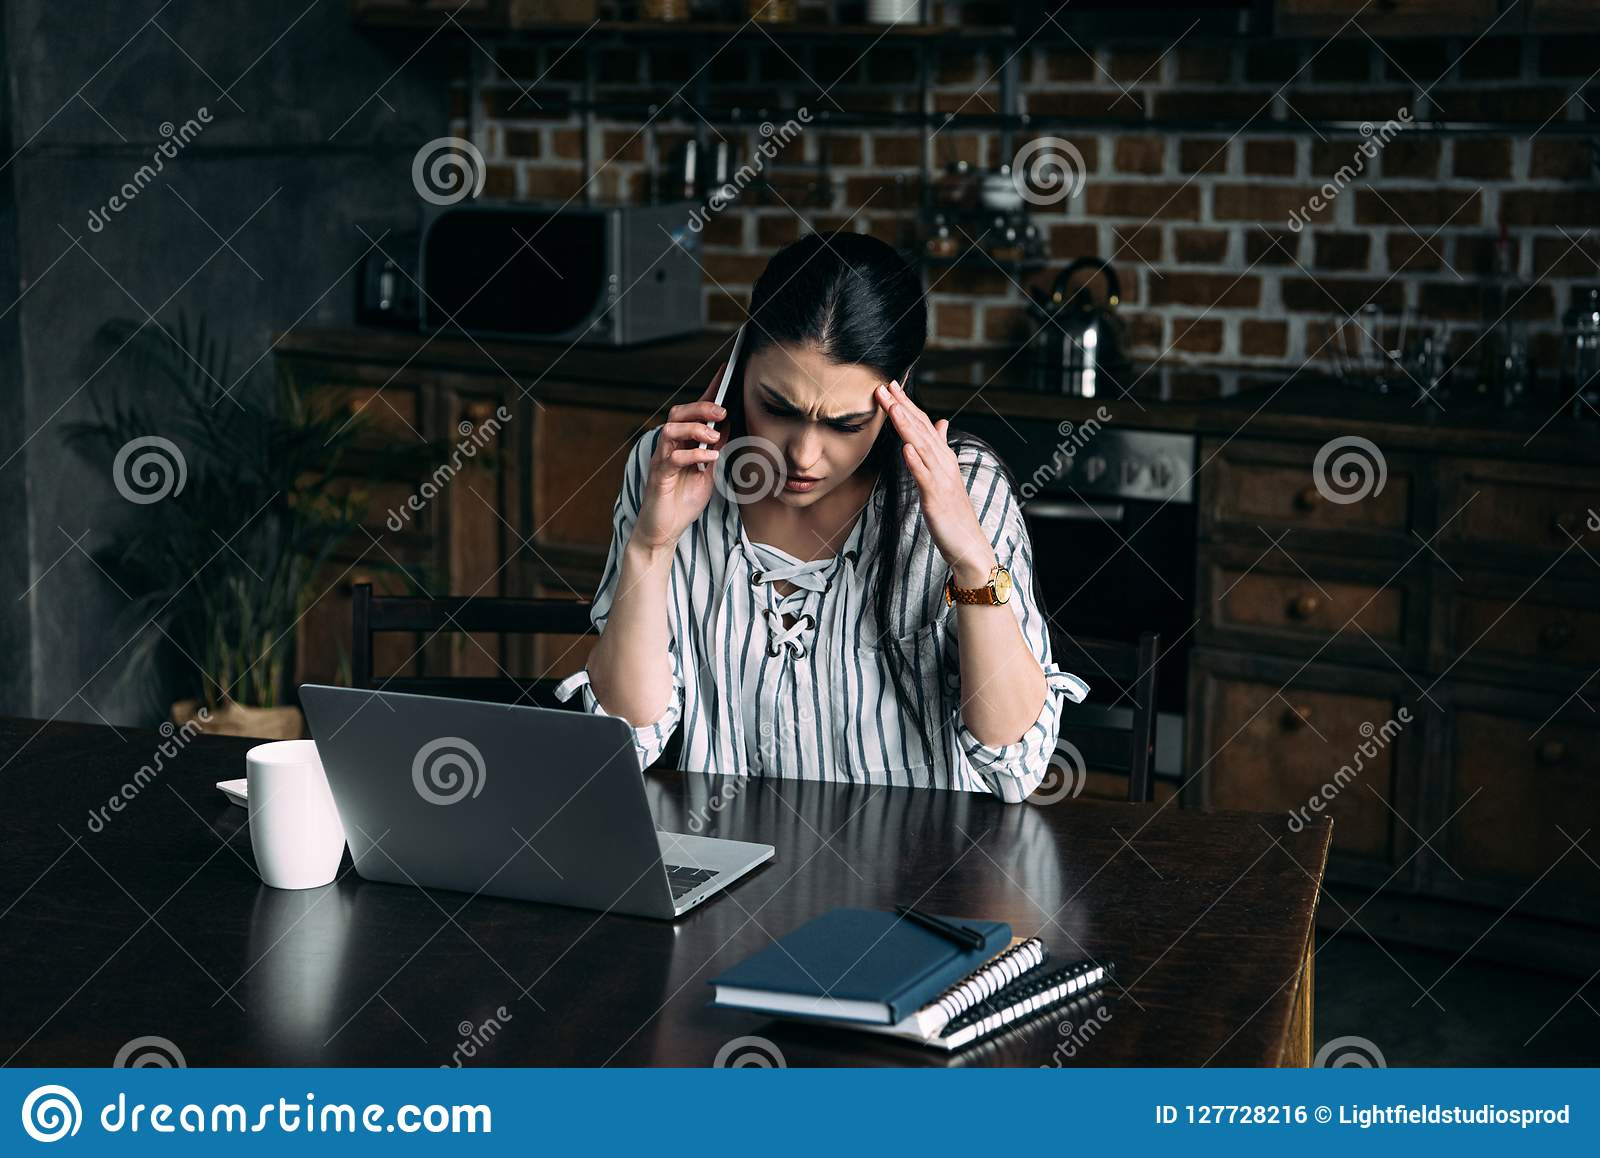phone: (693, 319, 747, 478)
talk: (619, 319, 889, 562)
